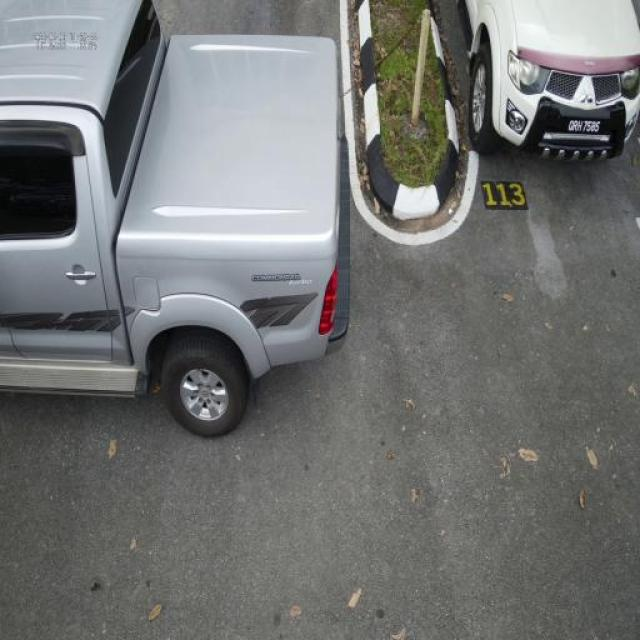Legalparking: (0, 0, 349, 435), (466, 0, 639, 156)
